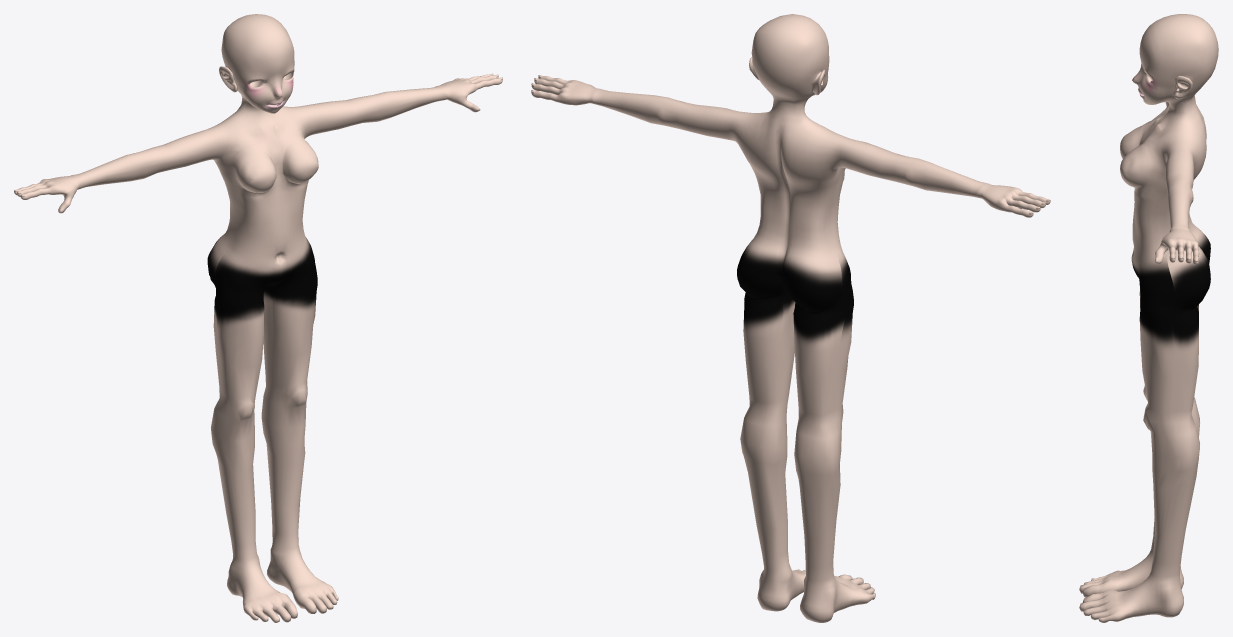
File: ekidnaBody.obj
The picture shows the model from 3 angles, left to right: view 1: azimuth 30°, elevation 25°; view 2: azimuth 150°, elevation 25°; view 3: azimuth 270°, elevation 25°; orthographic projection. The views are drawn at different scales.
Visible parts, largest first — view 1: Body; view 2: Body; view 3: Body.
Part boxes in pixels (left/top/right/bottom): Body: left=14, top=14, right=502, bottom=622; Body: left=531, top=14, right=1050, bottom=622; Body: left=1079, top=14, right=1218, bottom=622.
Bounding box in the file's own units: 1.46 × 1.64 × 0.3538.
